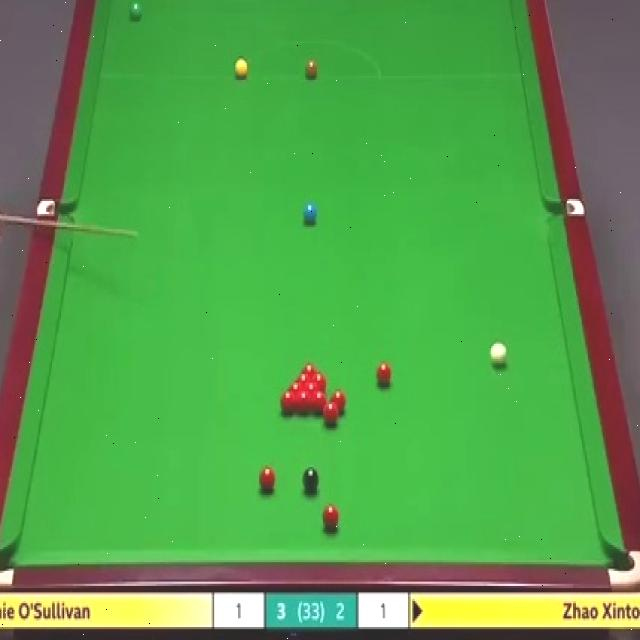black-ball: (303, 467, 320, 495)
blue-ball: (303, 203, 317, 224)
brown-ball: (304, 60, 318, 80)
green-ball: (129, 2, 142, 22)
red-ball: (258, 466, 276, 492), (324, 503, 340, 532), (279, 389, 296, 414), (376, 362, 392, 388), (330, 390, 346, 414), (312, 391, 328, 415), (323, 403, 338, 427), (296, 390, 310, 412), (312, 372, 327, 389), (299, 361, 318, 372), (295, 372, 311, 382), (303, 382, 320, 391), (288, 382, 303, 391)
white-ball: (488, 338, 506, 367)
yellow-ball: (234, 59, 248, 79)
